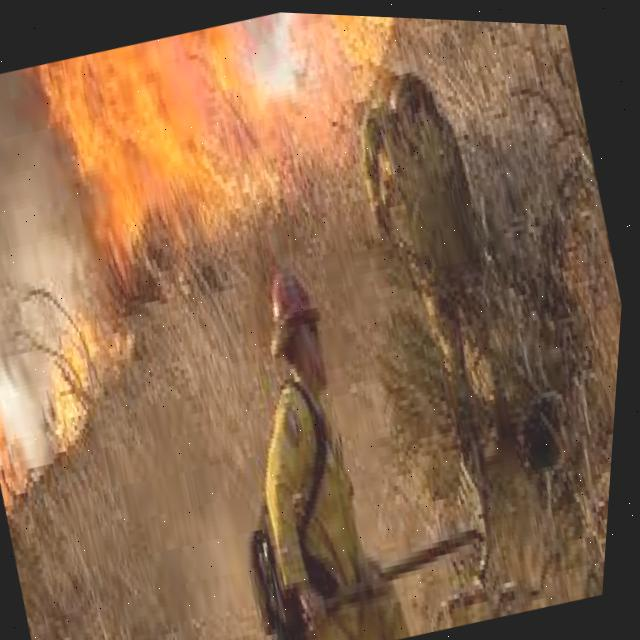fire: (43, 17, 287, 262), (276, 10, 391, 121)
smoke: (0, 65, 96, 370)
